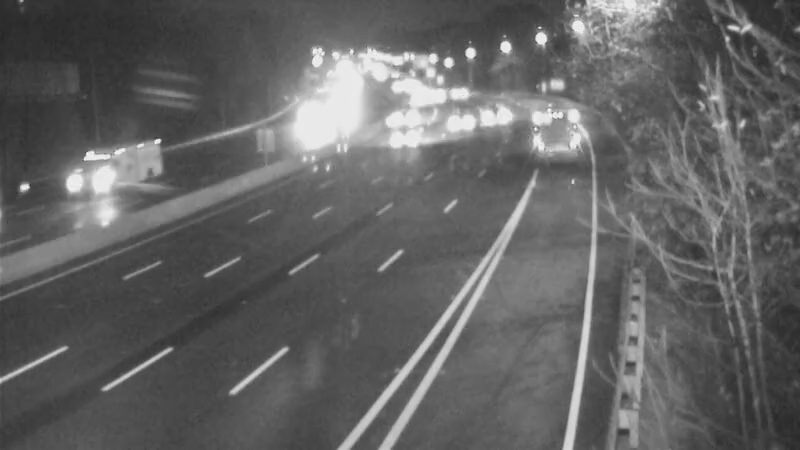vehicle: (62, 128, 142, 208), (428, 63, 478, 113), (395, 73, 445, 123), (473, 85, 523, 135), (381, 91, 431, 141), (431, 97, 481, 147), (383, 101, 433, 151), (524, 112, 574, 162), (285, 97, 335, 147)
